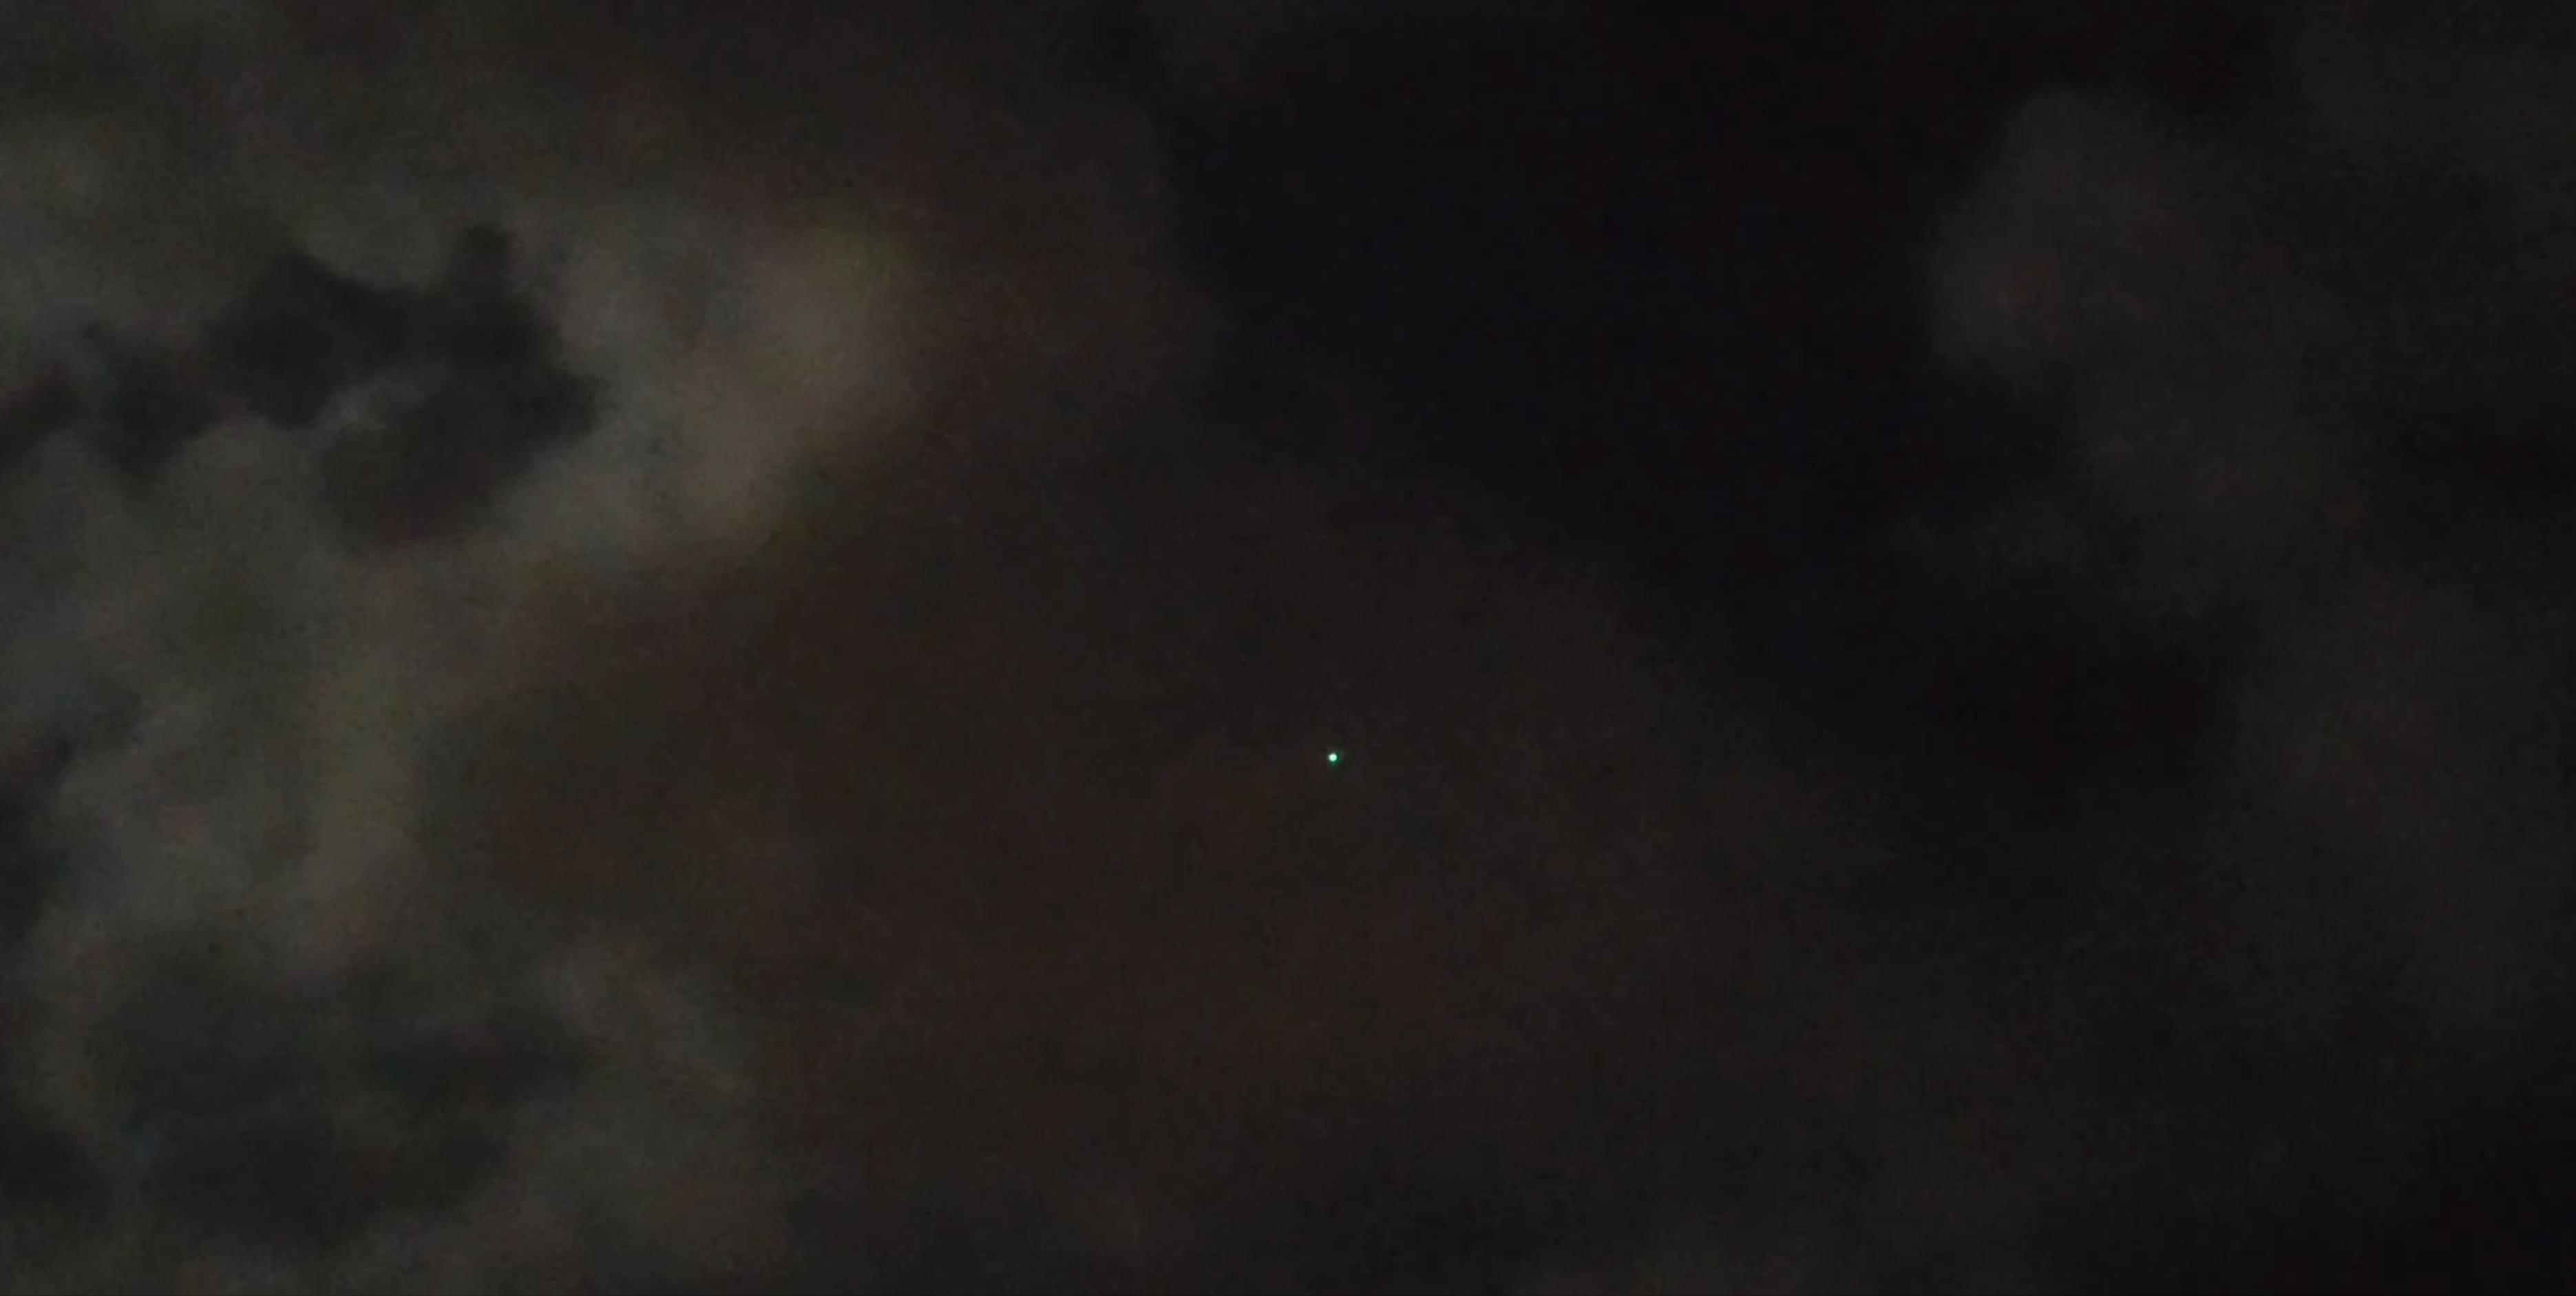Plane: (1307, 741, 1357, 792)
